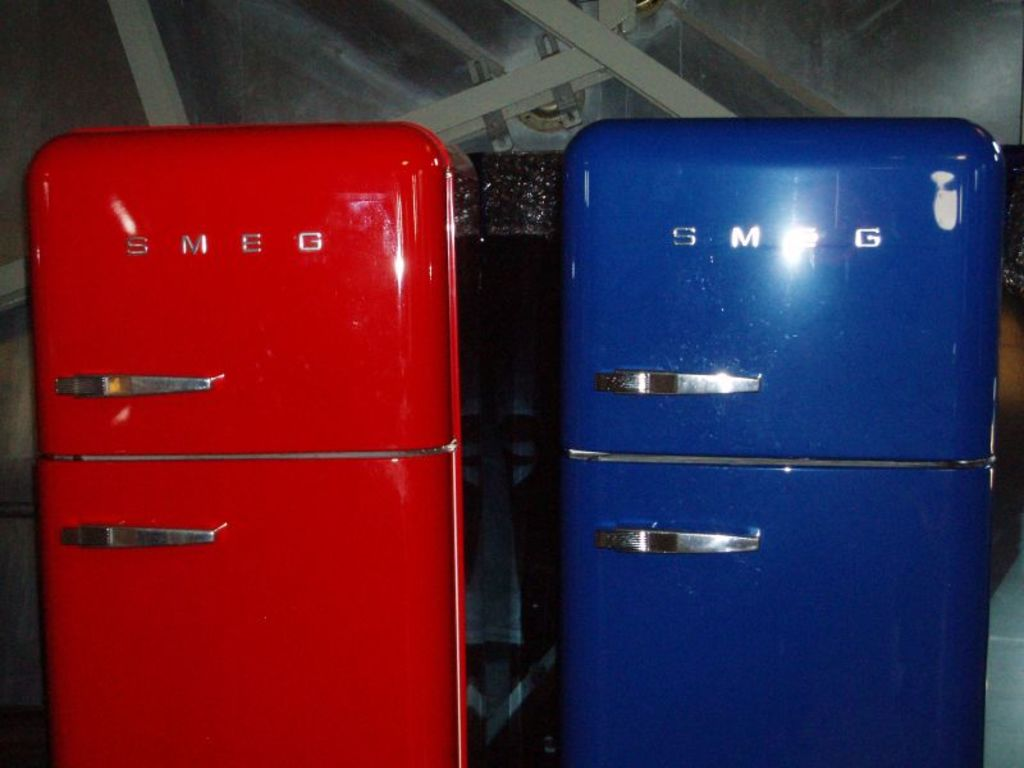handle: (586, 511, 767, 570), (49, 507, 226, 558), (591, 355, 767, 405), (47, 361, 225, 404)
refrigerator door: (564, 459, 986, 768), (574, 137, 991, 449), (41, 459, 447, 768), (34, 158, 446, 438)
